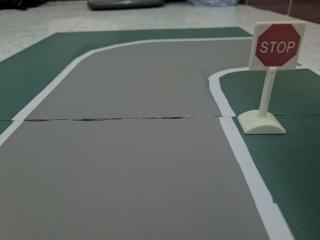stop: (244, 22, 305, 75)
